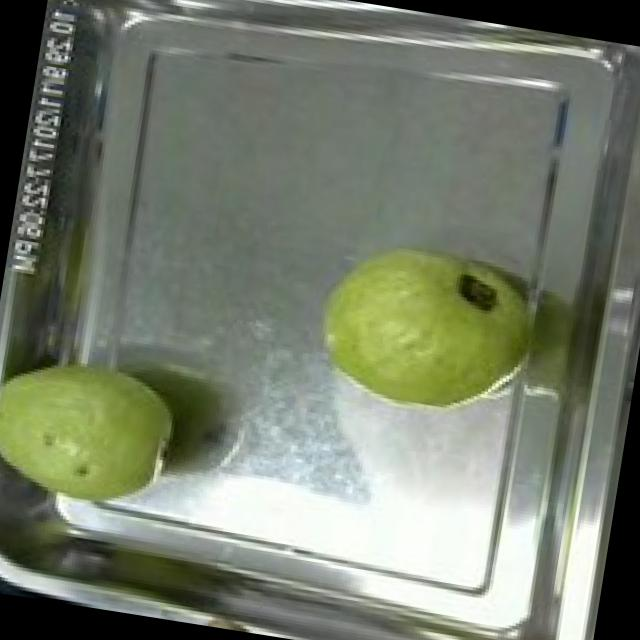Fruit: (294, 217, 548, 439), (0, 334, 196, 536)
